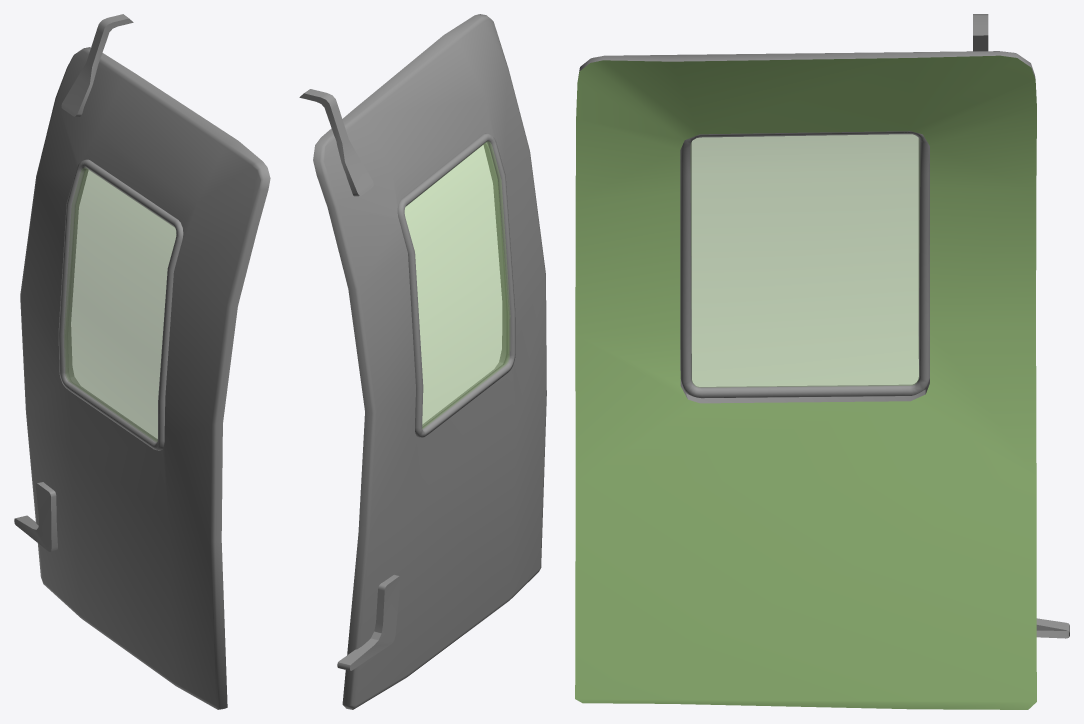
3 renders of one model, left to right at view 1: azimuth 30°, elevation 25°; view 2: azimuth 150°, elevation 25°; view 3: azimuth 270°, elevation 25°, orthographic. The views are drawn at different scales.
Parts seen in each view (by area): view 1: AC313_feijimen_01; view 2: AC313_feijimen_01; view 3: AC313_feijimen_01.
Part boxes in pixels (box(x1,y1,x2,y2)): AC313_feijimen_01: box(14, 14, 270, 709); AC313_feijimen_01: box(299, 14, 546, 709); AC313_feijimen_01: box(575, 14, 1069, 709).
Size of the model in its own units: 0.3382 by 1.96 by 1.22.
